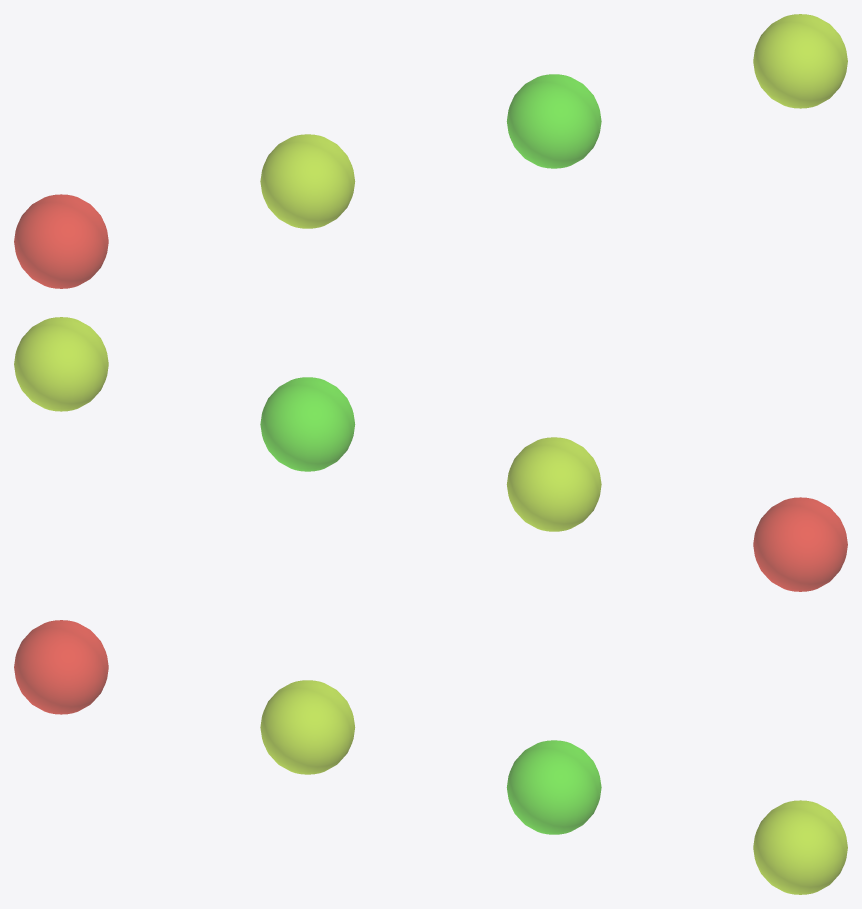
The model's file is #03_Obj_Balls.FBX.
The picture shows the model from 3 angles, top to bottom: view 1: azimuth 30°, elevation 25°; view 2: azimuth 150°, elevation 25°; view 3: azimuth 330°, elevation 25°; orthographic projection.
Parts seen in each view (by area): view 1: #03_Obj_Balls_002, #03_Obj_Balls_003, #03_Obj_Balls_001, #03_Obj_Balls_004; view 2: #03_Obj_Balls_002, #03_Obj_Balls_003, #03_Obj_Balls_001, #03_Obj_Balls_004; view 3: #03_Obj_Balls_002, #03_Obj_Balls_003, #03_Obj_Balls_001, #03_Obj_Balls_004.
Boxes of the visible parts, box(x1,y1,x2,y2) form: #03_Obj_Balls_002: box(260, 134, 355, 228); #03_Obj_Balls_003: box(506, 74, 601, 168); #03_Obj_Balls_001: box(14, 194, 108, 288); #03_Obj_Balls_004: box(753, 14, 847, 108); #03_Obj_Balls_002: box(506, 437, 601, 531); #03_Obj_Balls_003: box(260, 377, 355, 471); #03_Obj_Balls_001: box(753, 497, 847, 591); #03_Obj_Balls_004: box(14, 317, 108, 411); #03_Obj_Balls_002: box(260, 680, 355, 774); #03_Obj_Balls_003: box(506, 740, 601, 834); #03_Obj_Balls_001: box(14, 620, 108, 714); #03_Obj_Balls_004: box(753, 800, 847, 894).
Size of the model in its own units: 2000 by 200 by 200.
